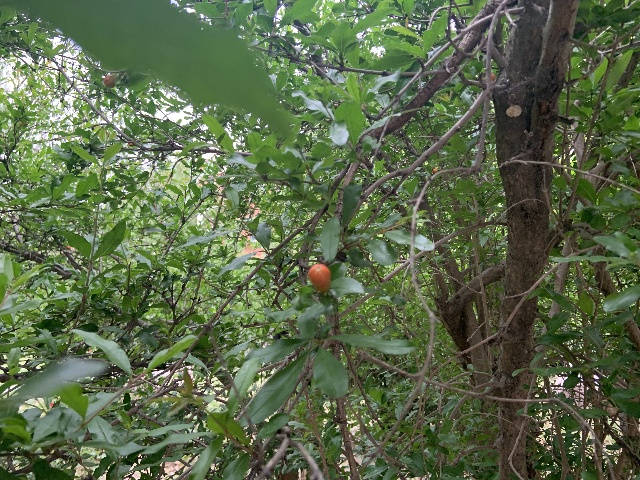bud: (308, 263, 331, 293), (103, 75, 116, 87), (432, 168, 437, 173)
